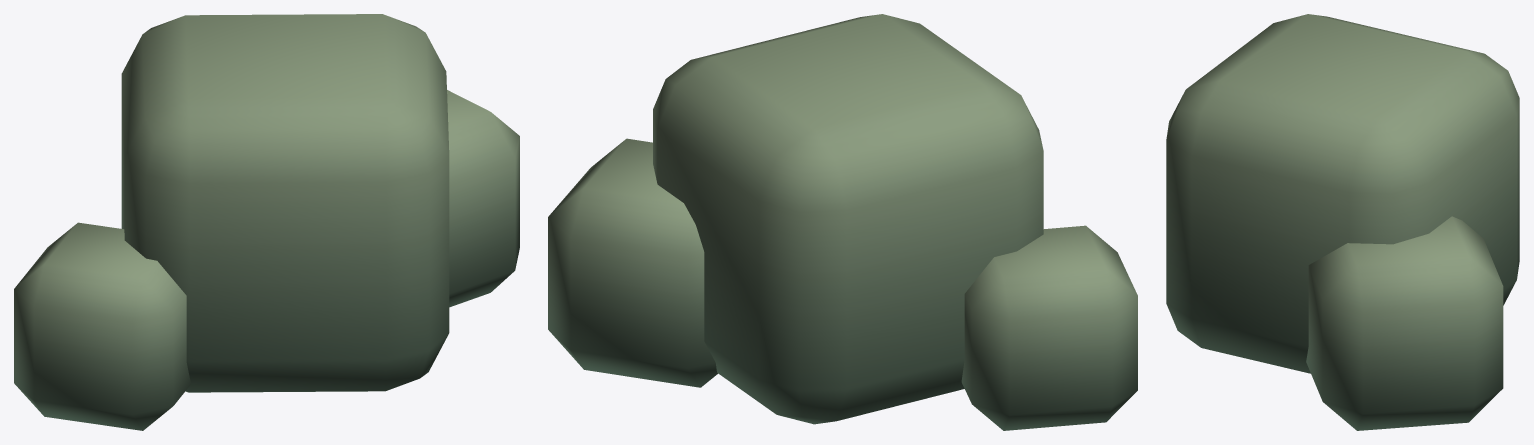
File: Bush_2_D.glb
3 renders of one model, left to right at view 1: azimuth 30°, elevation 25°; view 2: azimuth 150°, elevation 25°; view 3: azimuth 270°, elevation 25°, orthographic. The views are drawn at different scales.
Visible parts, largest first — view 1: Bush_2_D_Color1; view 2: Bush_2_D_Color1; view 3: Bush_2_D_Color1.
Part boxes in pixels (left/top/right/bottom): Bush_2_D_Color1: left=14, top=14, right=519, bottom=430; Bush_2_D_Color1: left=548, top=14, right=1137, bottom=430; Bush_2_D_Color1: left=1166, top=14, right=1519, bottom=430.
Bounding box in the file's own units: 1.57 × 0.858 × 1.02.
1 material, 1 textured.
